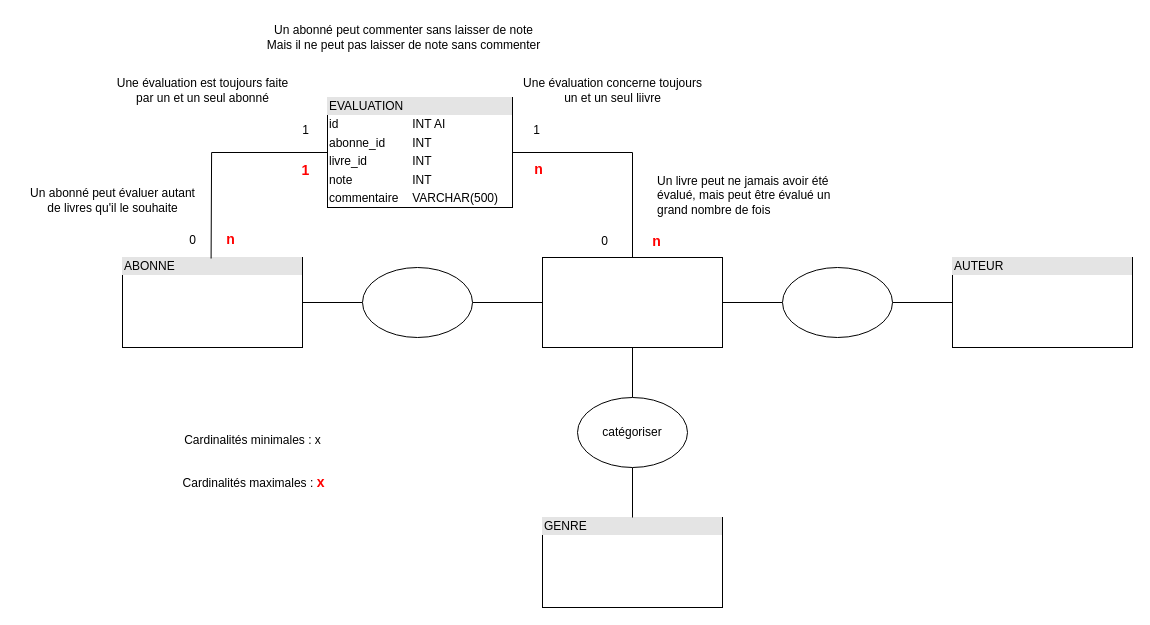
The diagram is 1150 pixels wide and 625 high, and some of its shapes have lost their labels. Each missing label, with the box of its shape:
emprunter: (362, 266, 472, 338)
LIVRE: (542, 256, 722, 348)
écrire: (782, 266, 892, 338)
